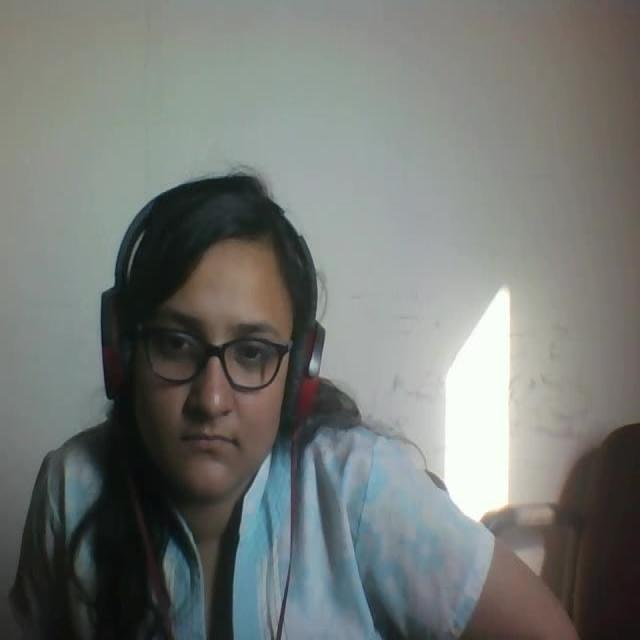Engaged: (94, 160, 340, 518)
